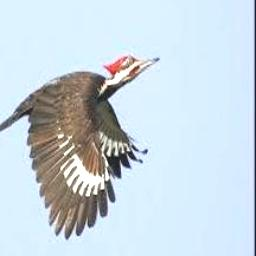Woodpecker: (0, 54, 159, 239)
